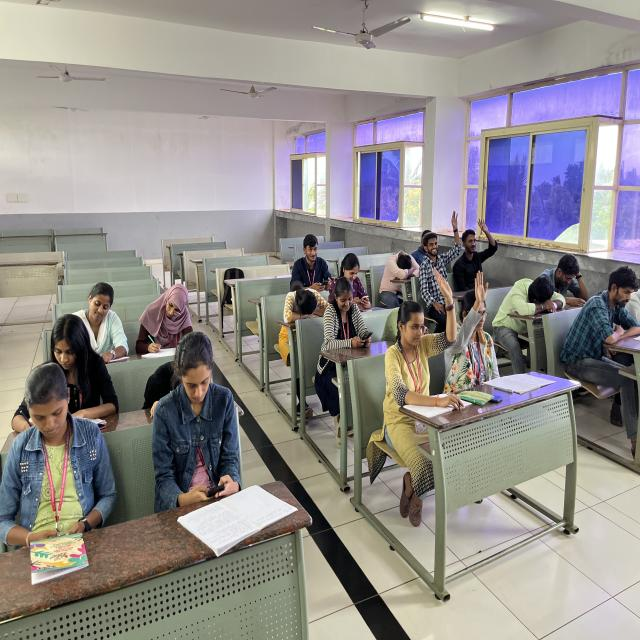Hand Rising: (372, 264, 465, 427), (446, 266, 506, 366), (411, 209, 463, 277), (452, 204, 498, 280)
Reading: (74, 264, 135, 371)
Sleeping: (274, 270, 326, 344), (372, 243, 421, 308)
Using Phone: (0, 366, 121, 538), (146, 328, 247, 502), (318, 274, 376, 351), (284, 226, 338, 293), (330, 247, 374, 313)
Writing: (0, 305, 120, 455), (121, 248, 209, 370)
